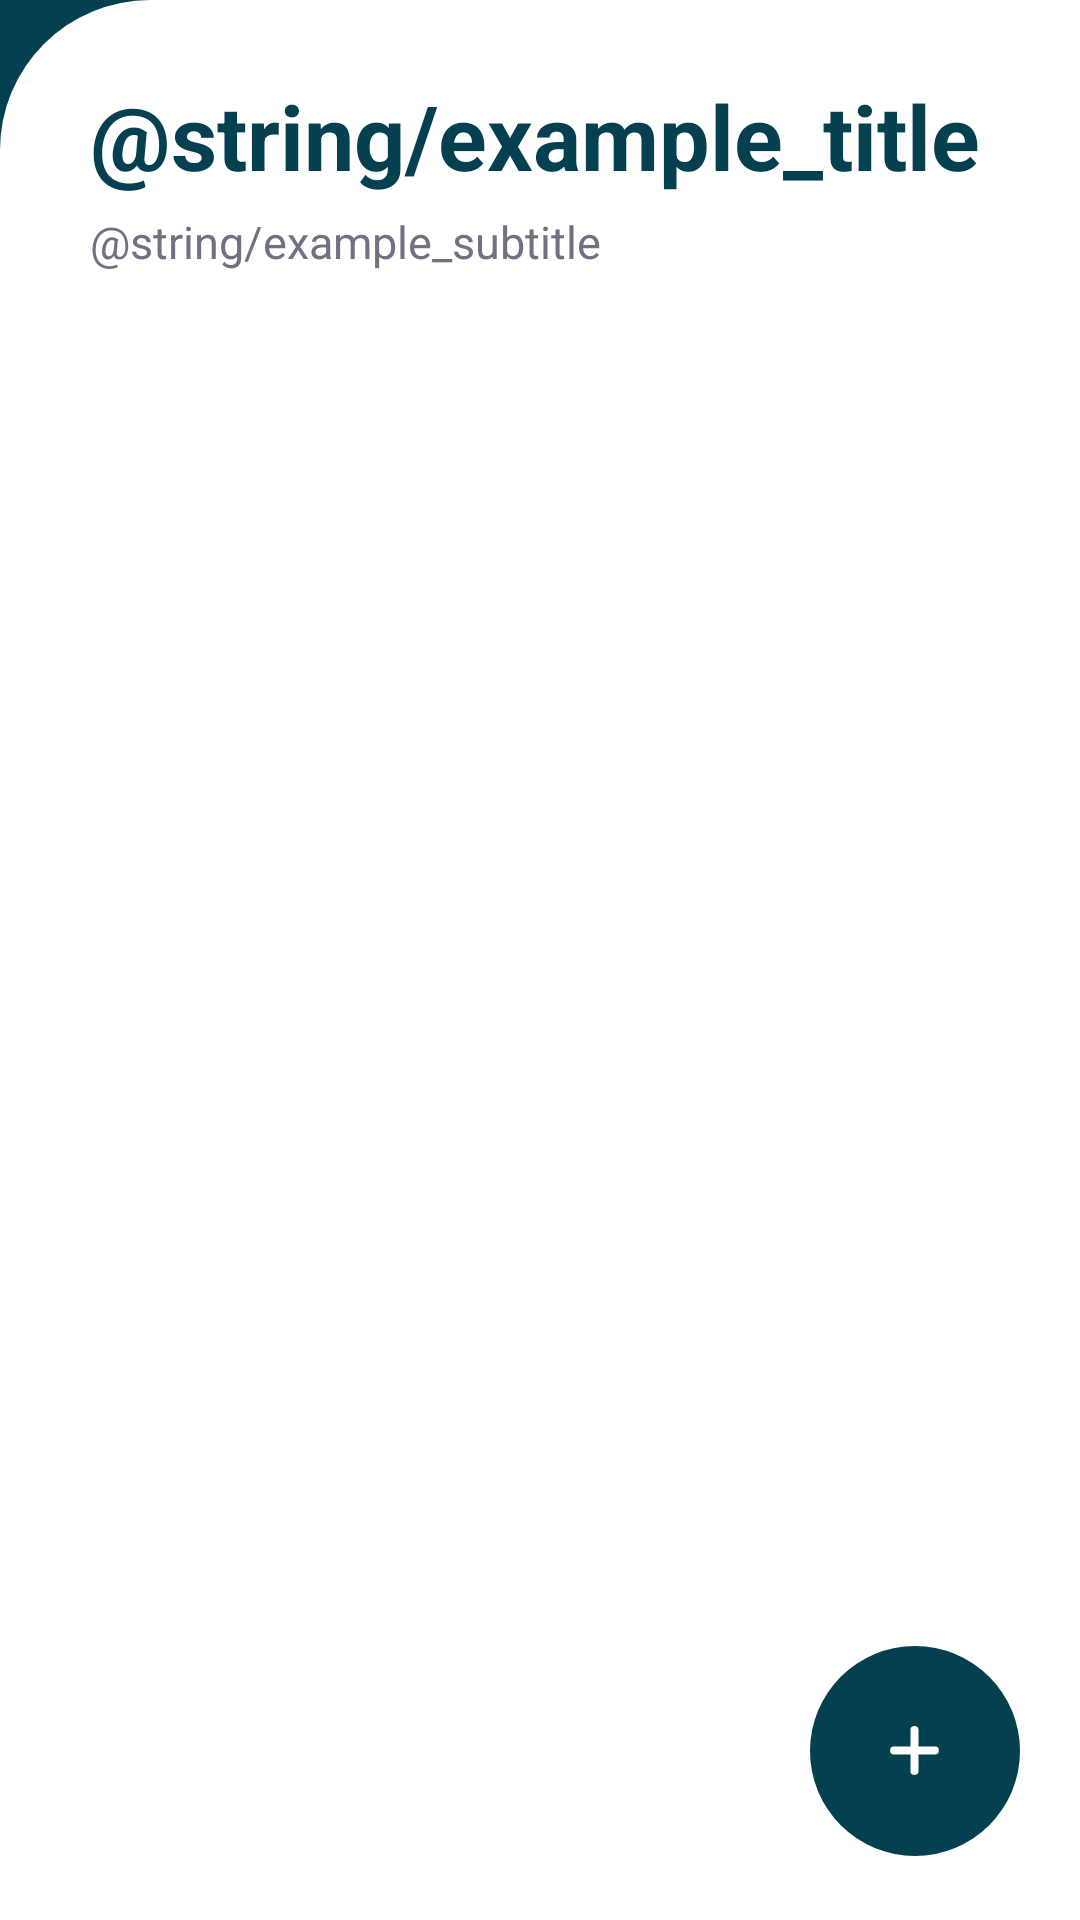

Point at icon controls on the screen. Image size 1080 × 1920, points as (x=x, y=y).
plus: (x=915, y=1751)
